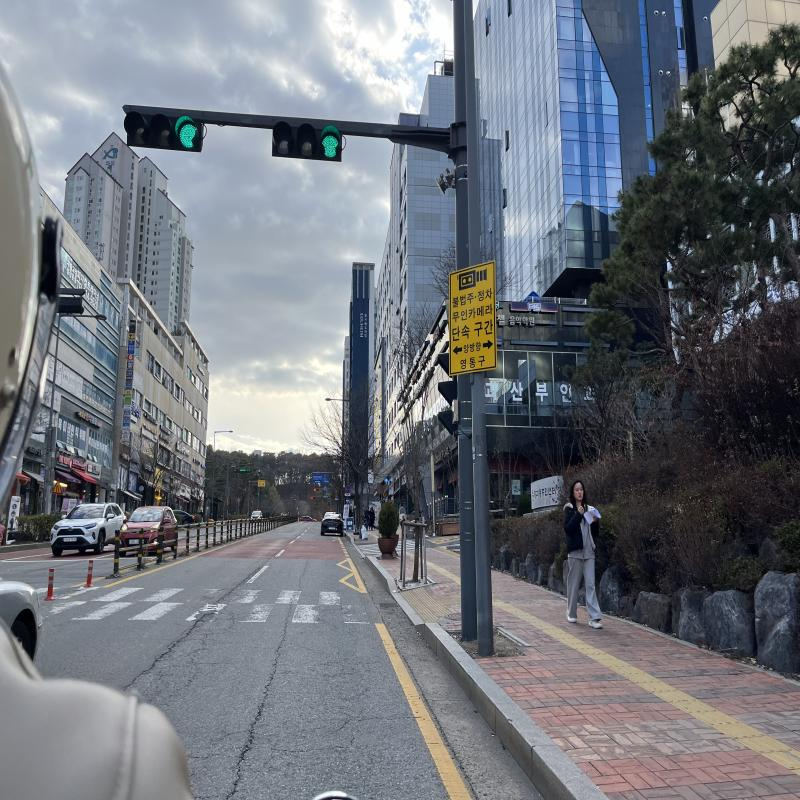green: (318, 131, 342, 159), (177, 121, 200, 150)
